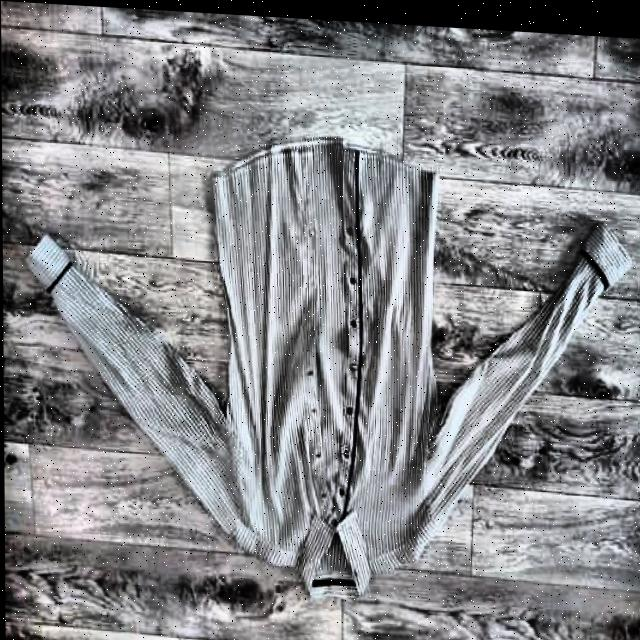clothes: (19, 113, 633, 616)
